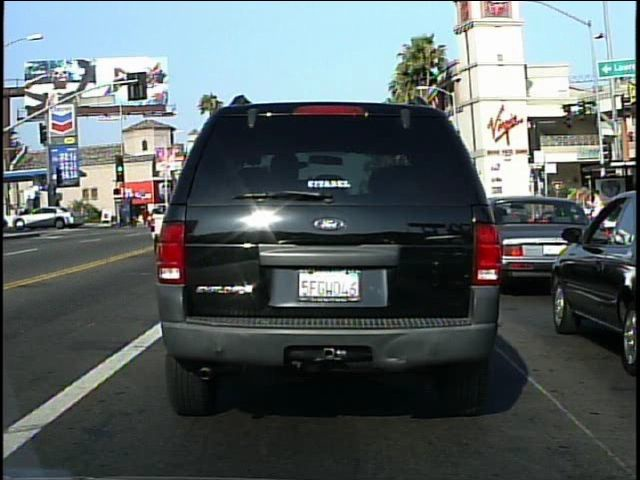person: (586, 186, 609, 241)
